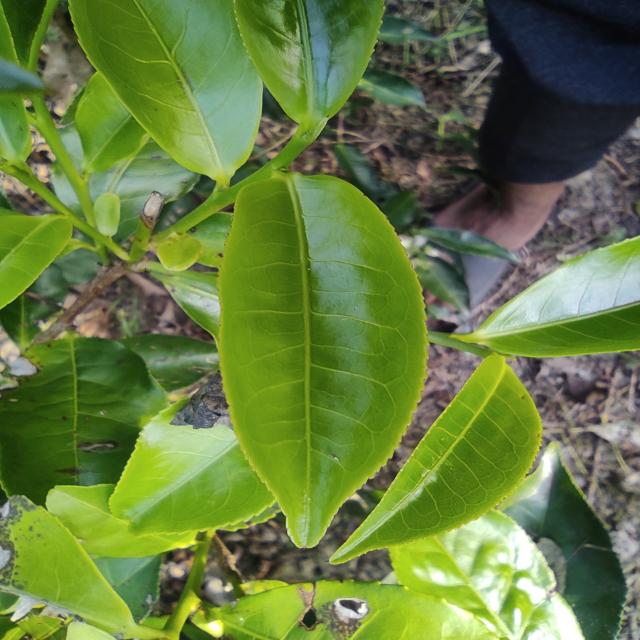Category B(2-4 days): (208, 156, 438, 554)
